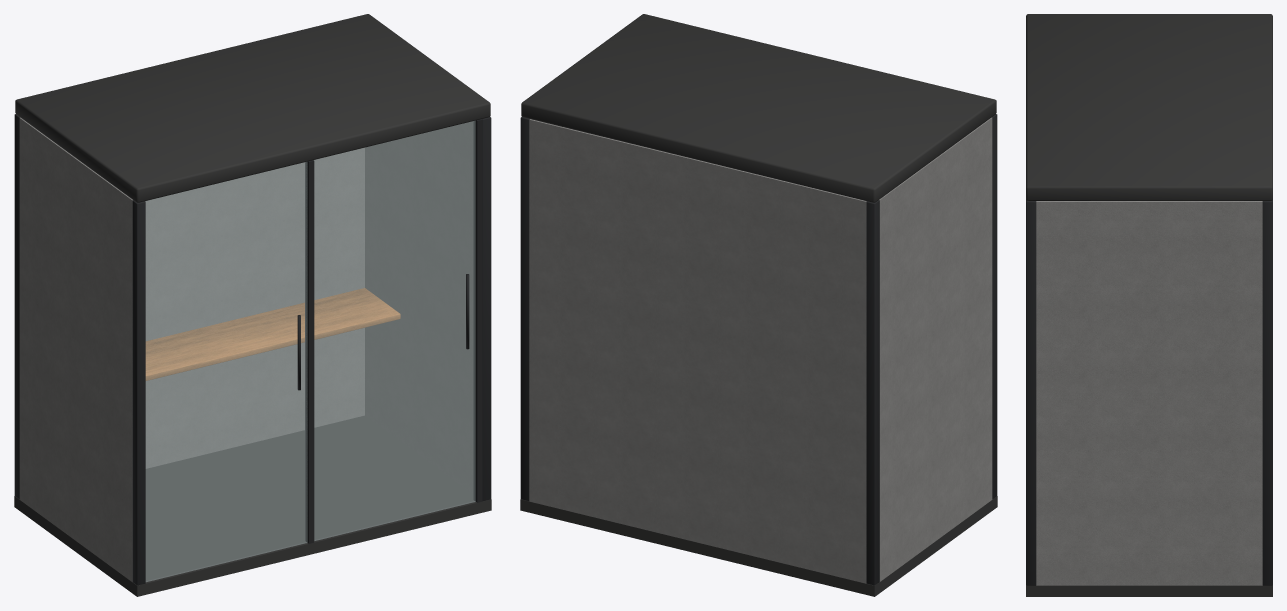
Rendered from architecture.double-focus-pod.glb.
3 views of the same model, side by side, from view 1: azimuth 30°, elevation 25°; view 2: azimuth 150°, elevation 25°; view 3: azimuth 270°, elevation 25° (orthographic).
Parts seen in each view (by area): view 1: architecture.double-focus-pod.001; view 2: architecture.double-focus-pod.001; view 3: architecture.double-focus-pod.001.
Part boxes in pixels (<box>): architecture.double-focus-pod.001: <box>14,14,491,596</box>; architecture.double-focus-pod.001: <box>520,14,997,596</box>; architecture.double-focus-pod.001: <box>1026,14,1272,596</box>.
Size of the model in its own units: 2 by 2.2 by 1.2.
Materials: 5 (2 with a texture image).
